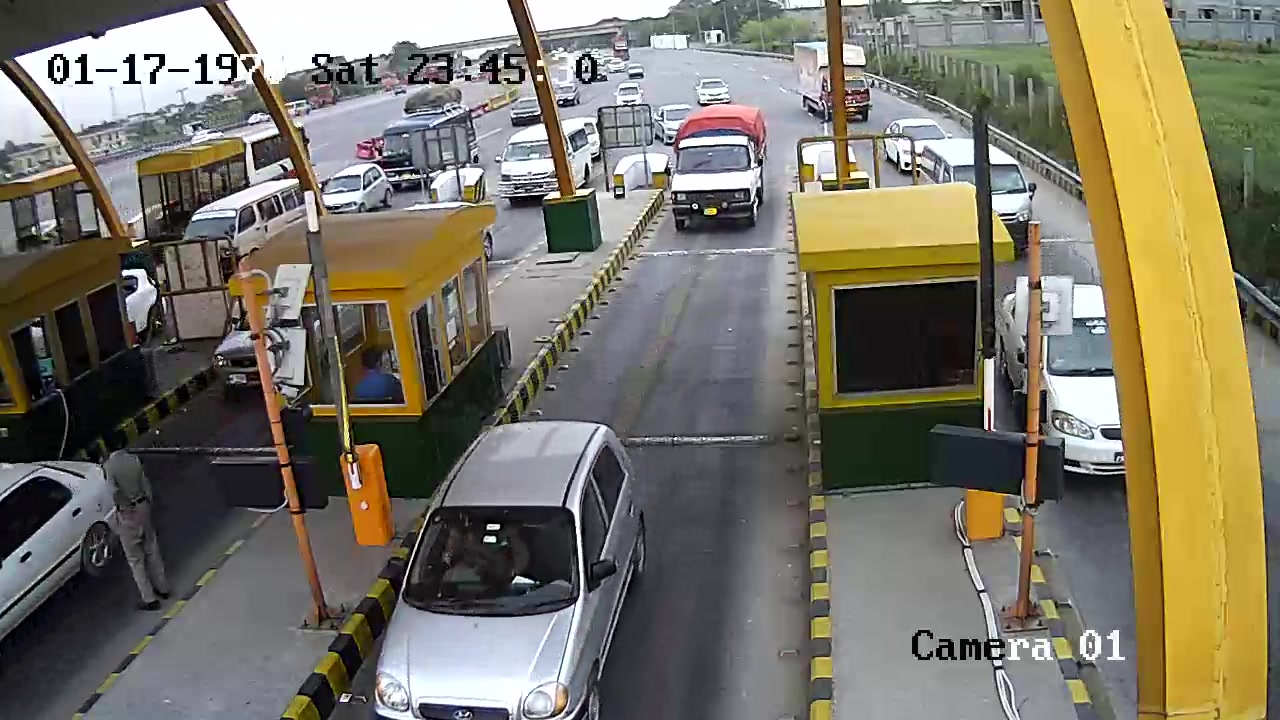F1: (359, 421, 670, 717)
